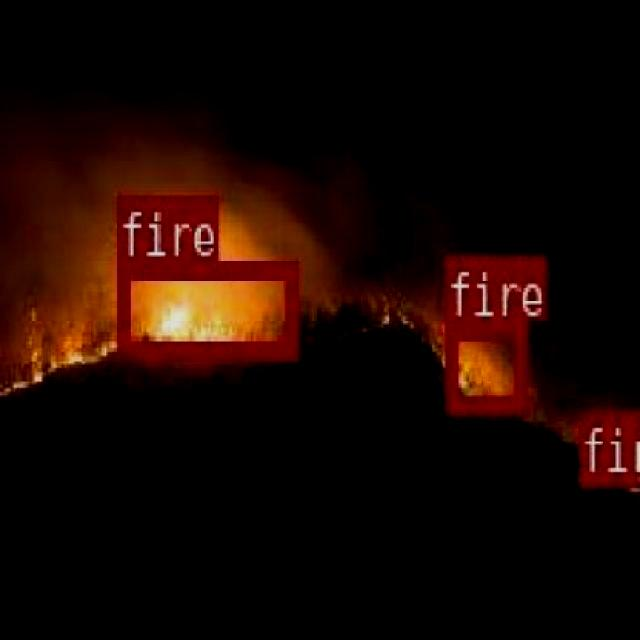fire: (117, 256, 296, 356), (446, 317, 524, 408), (576, 412, 632, 482)
